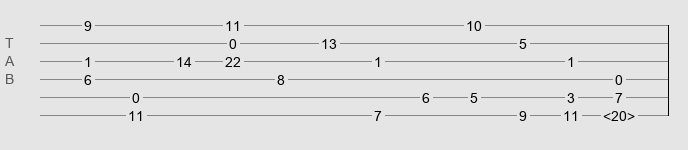0: (132, 90, 140, 100), (229, 36, 237, 46), (615, 72, 623, 82)
1: (84, 54, 92, 64), (374, 54, 382, 64), (567, 54, 575, 64)
10: (466, 18, 482, 28)
11: (128, 108, 144, 118), (225, 18, 241, 28), (563, 108, 579, 118)
13: (321, 36, 337, 46)
14: (176, 54, 192, 64)
22: (225, 54, 241, 64)
3: (567, 90, 575, 100)
5: (470, 90, 478, 100), (519, 36, 527, 46)
6: (84, 72, 92, 82), (422, 90, 430, 100)
7: (374, 108, 382, 118), (615, 90, 623, 100)
8: (277, 72, 285, 82)
9: (84, 18, 92, 28), (519, 108, 527, 118)
harmonic: (603, 108, 635, 118)
